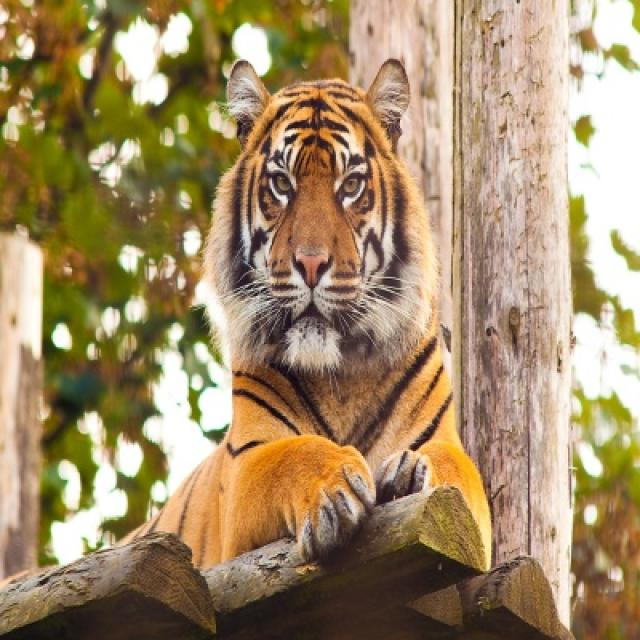Tiger: (122, 59, 488, 568)
